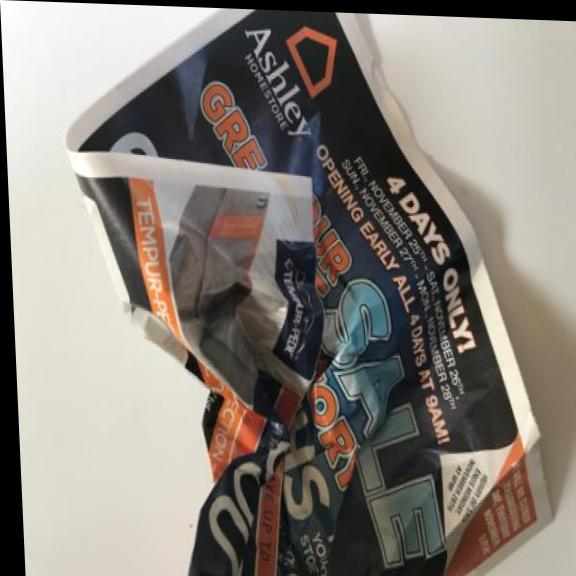Kertas: (56, 2, 564, 576)
